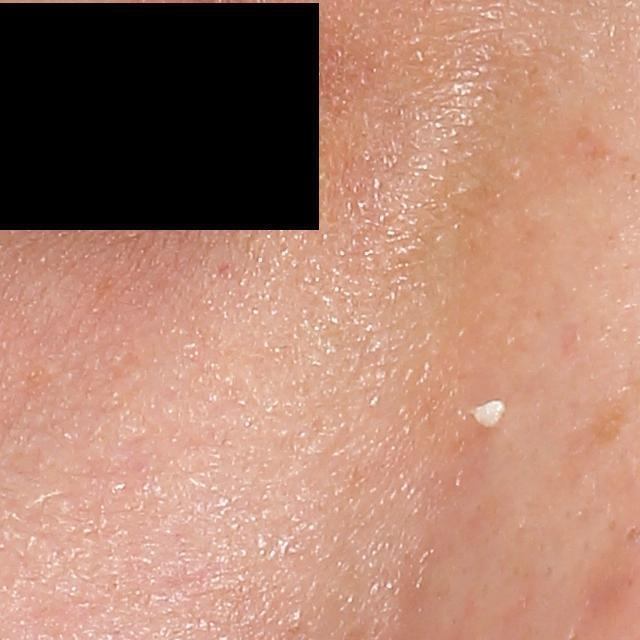other: (463, 393, 507, 432)
